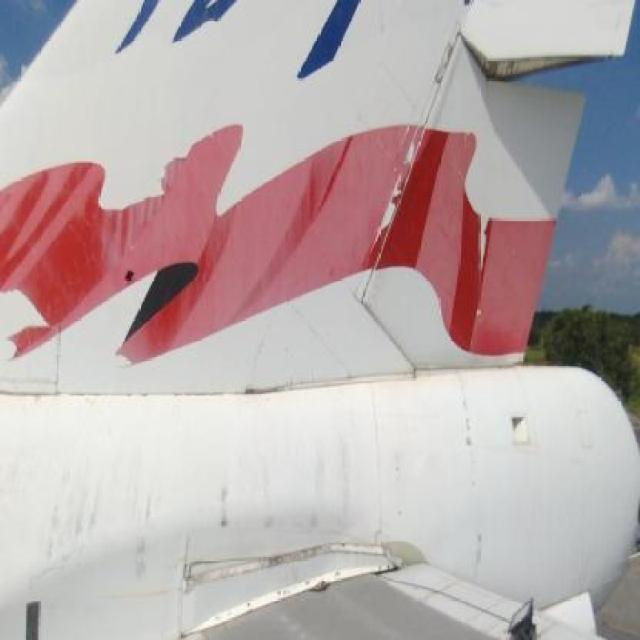Rust: (268, 548, 337, 566)
Scartch: (69, 475, 162, 602), (456, 396, 490, 575), (206, 476, 237, 550), (506, 398, 540, 457)
